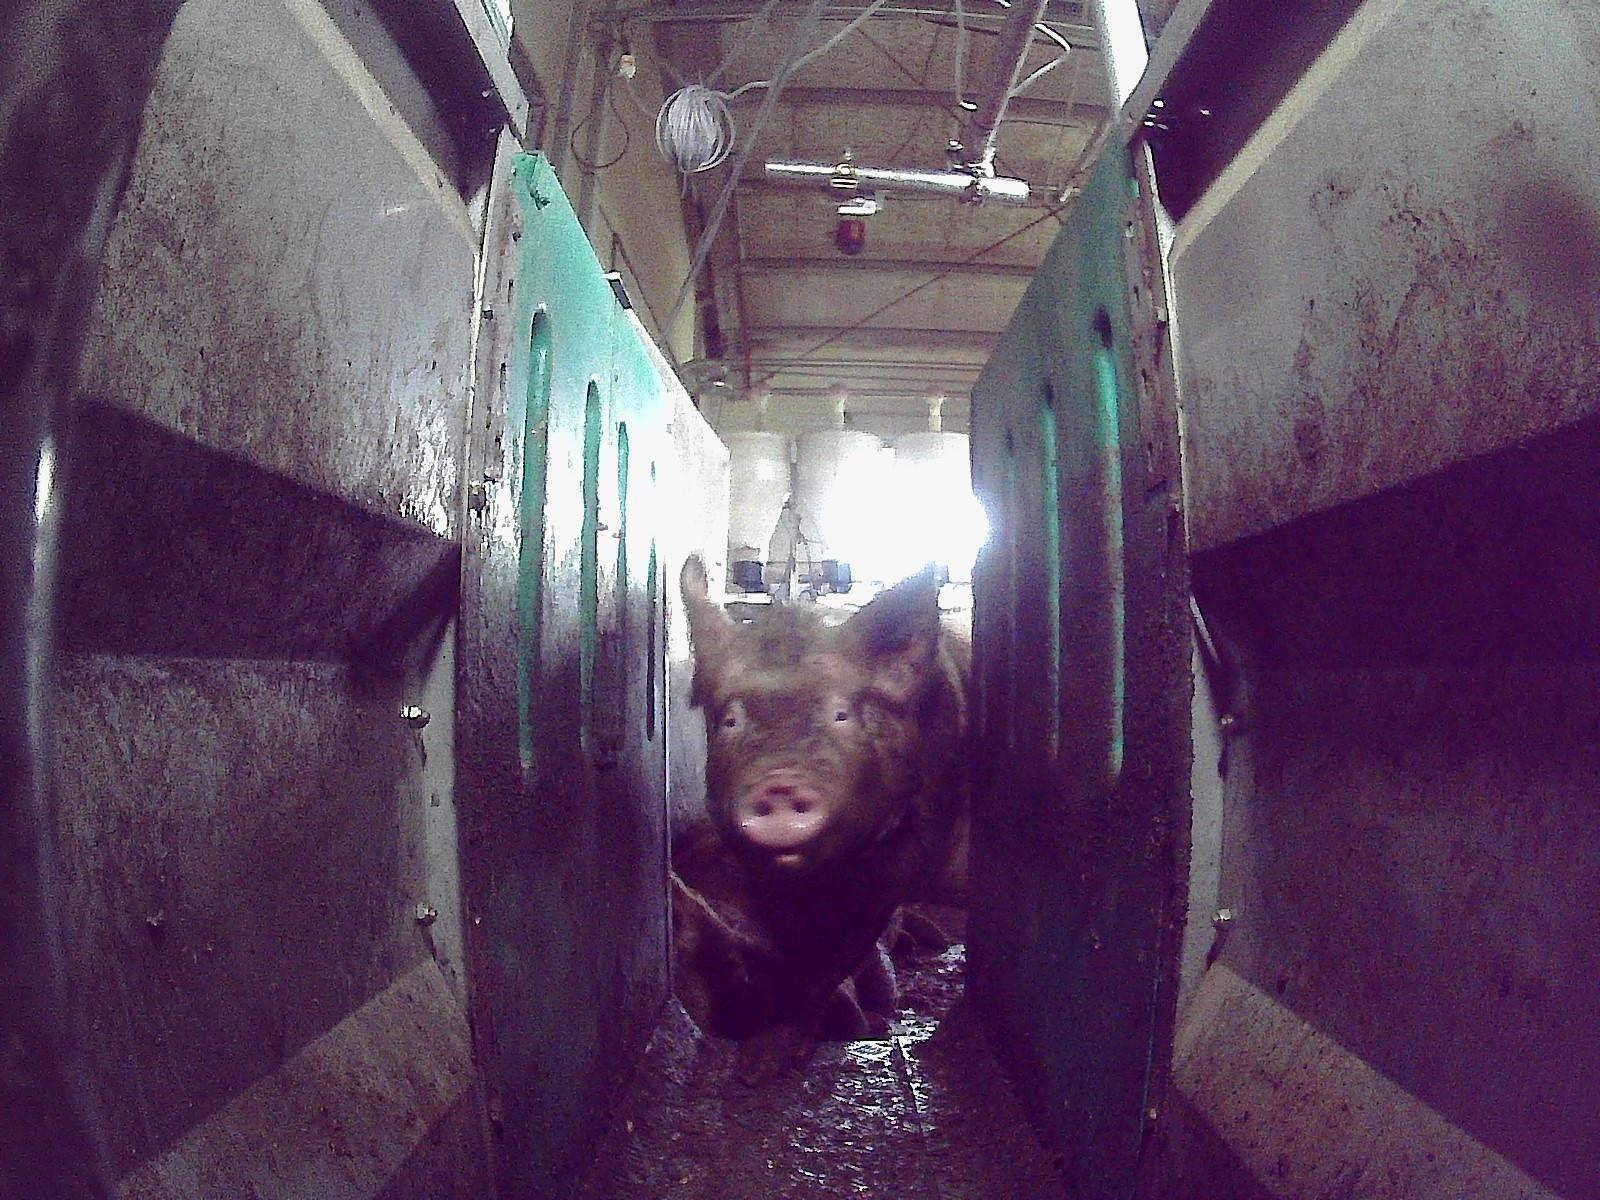Face: (702, 606, 895, 865)
